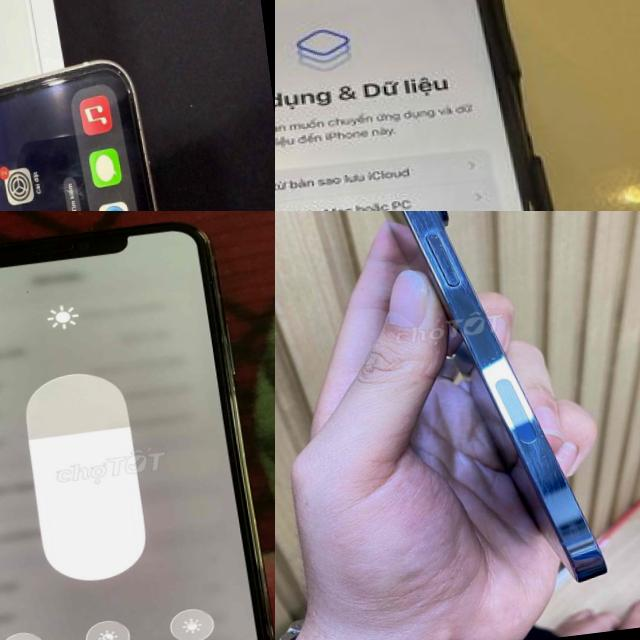gen_11: (0, 211, 275, 640), (0, 50, 176, 211)
gen_12_13: (348, 211, 622, 610)
gen_7_8: (275, 0, 620, 211)
scratch: (524, 436, 596, 554), (395, 211, 471, 302), (9, 60, 140, 109), (137, 124, 162, 211)
